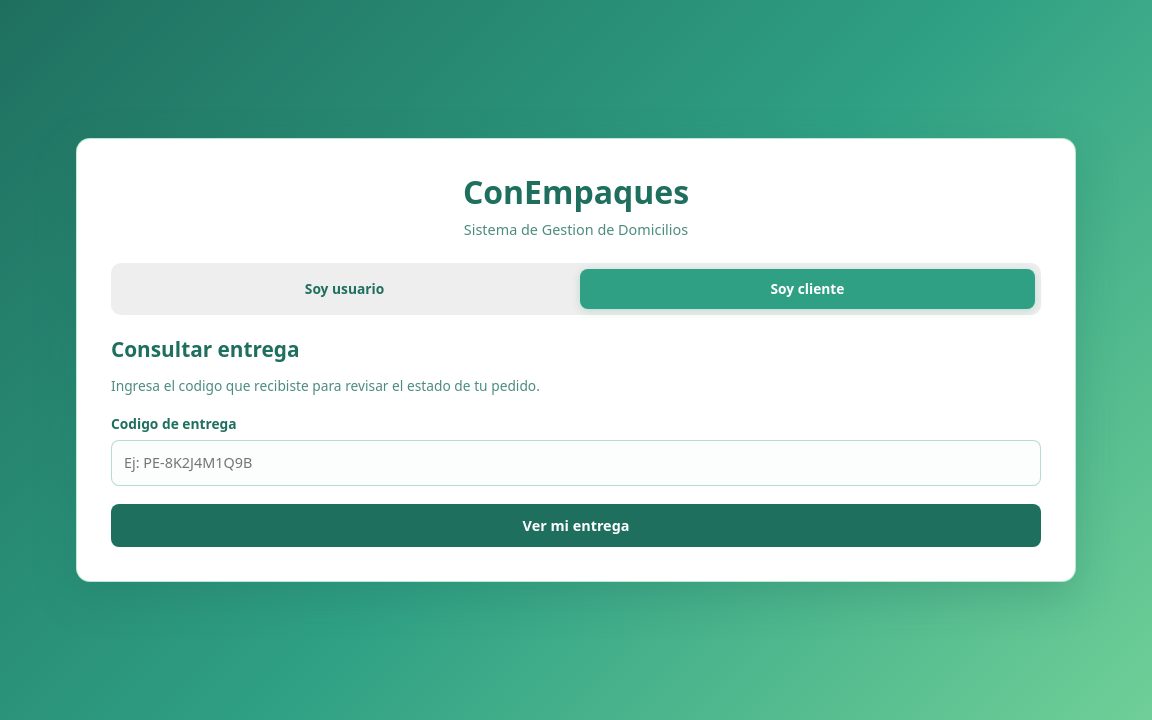
Test: Login module › permite alternar entre cliente y usuario
Expected: the heading "Consultar entrega" is shown, [111,335,300,363]
What coordinates should you click on to do the following:
click the button "Soy usuario"
I would click on:
 (344, 289)
Its box is [117,269,572,309].
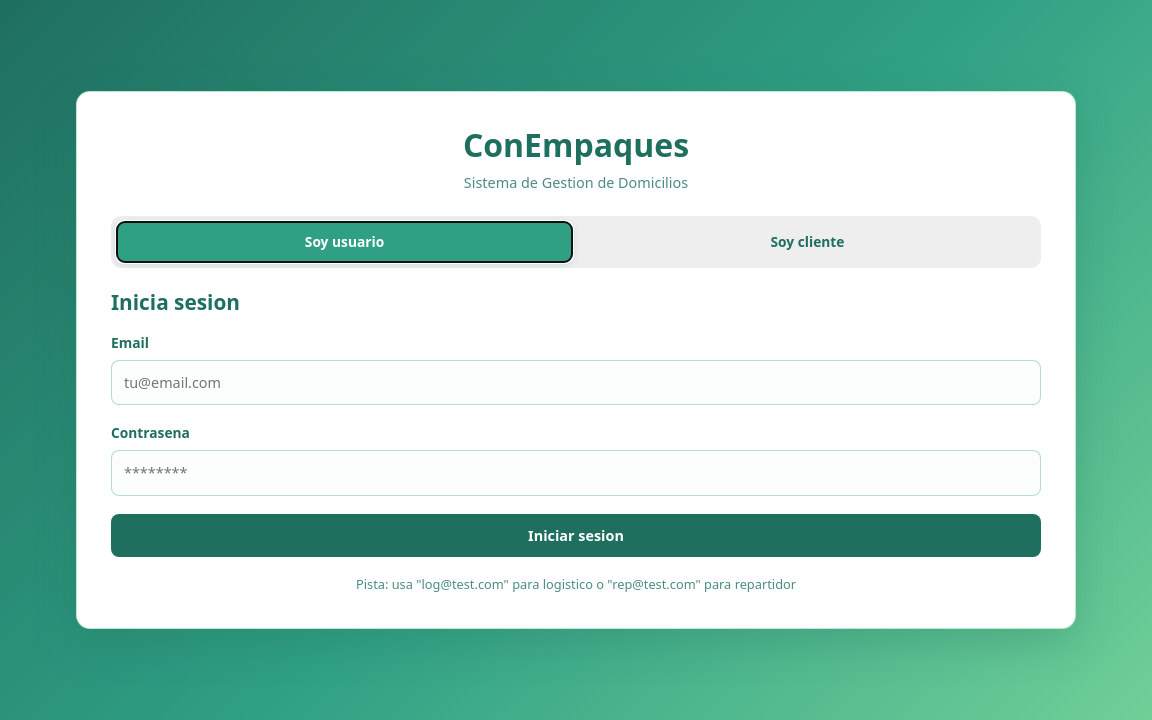
Now the heading "Inicia sesion" is shown, box [111,288,240,316]
What coordinates should you click on to do the following:
click the button "Soy cliente"
I would click on:
 (808, 242)
Its box is [580,222,1035,262].
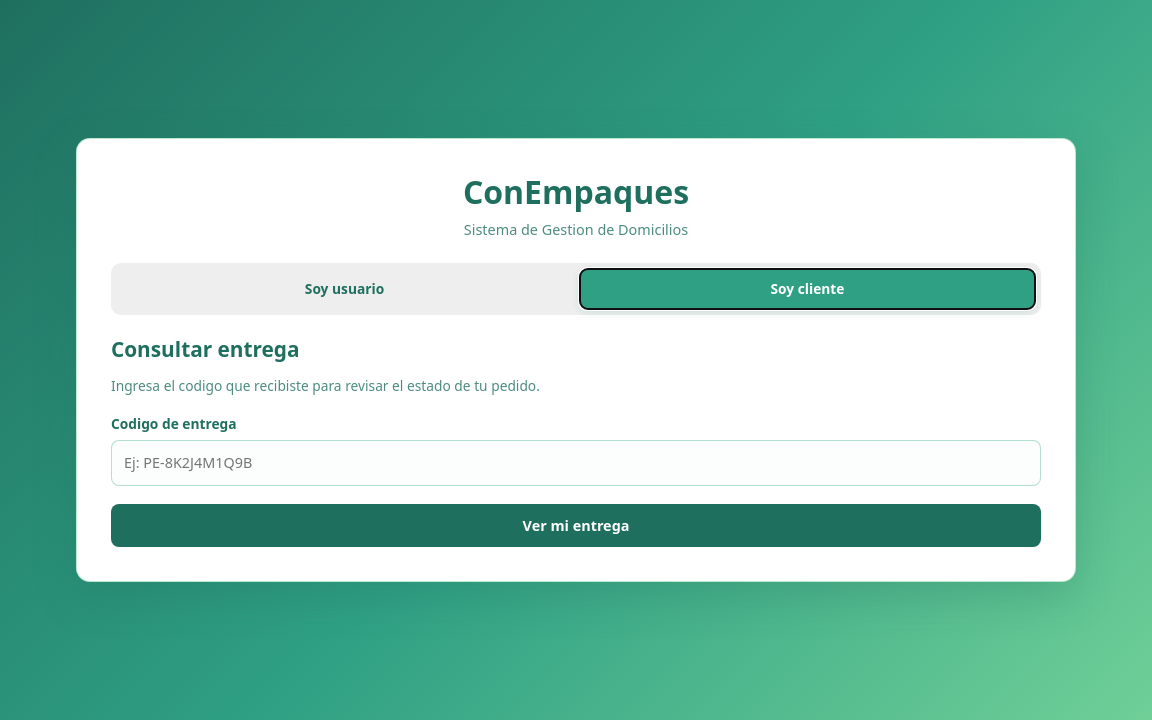
Now the heading "Consultar entrega" is shown, box [111,335,300,363]
